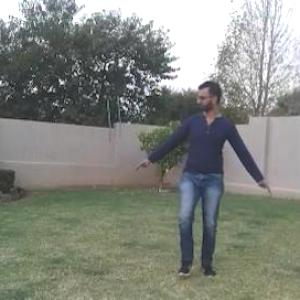land: (124, 75, 290, 294)
